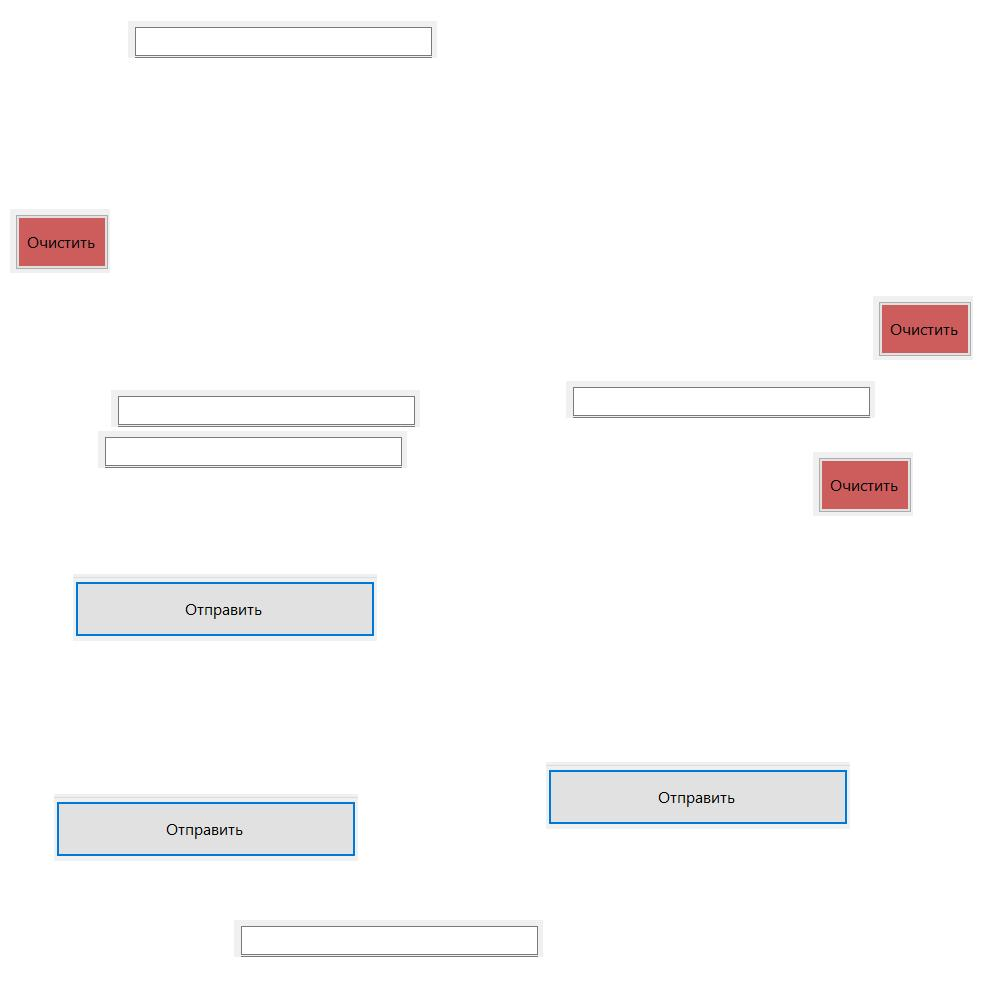Button: (73, 574, 377, 641), (546, 762, 850, 829), (54, 794, 358, 861), (873, 296, 973, 360), (813, 452, 913, 516), (10, 209, 110, 273)
EditText-: (111, 390, 420, 427), (566, 381, 875, 418), (98, 431, 407, 468), (234, 920, 543, 957), (128, 21, 437, 58)
